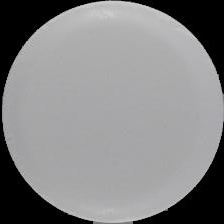64125-140: (0, 0, 224, 224)
